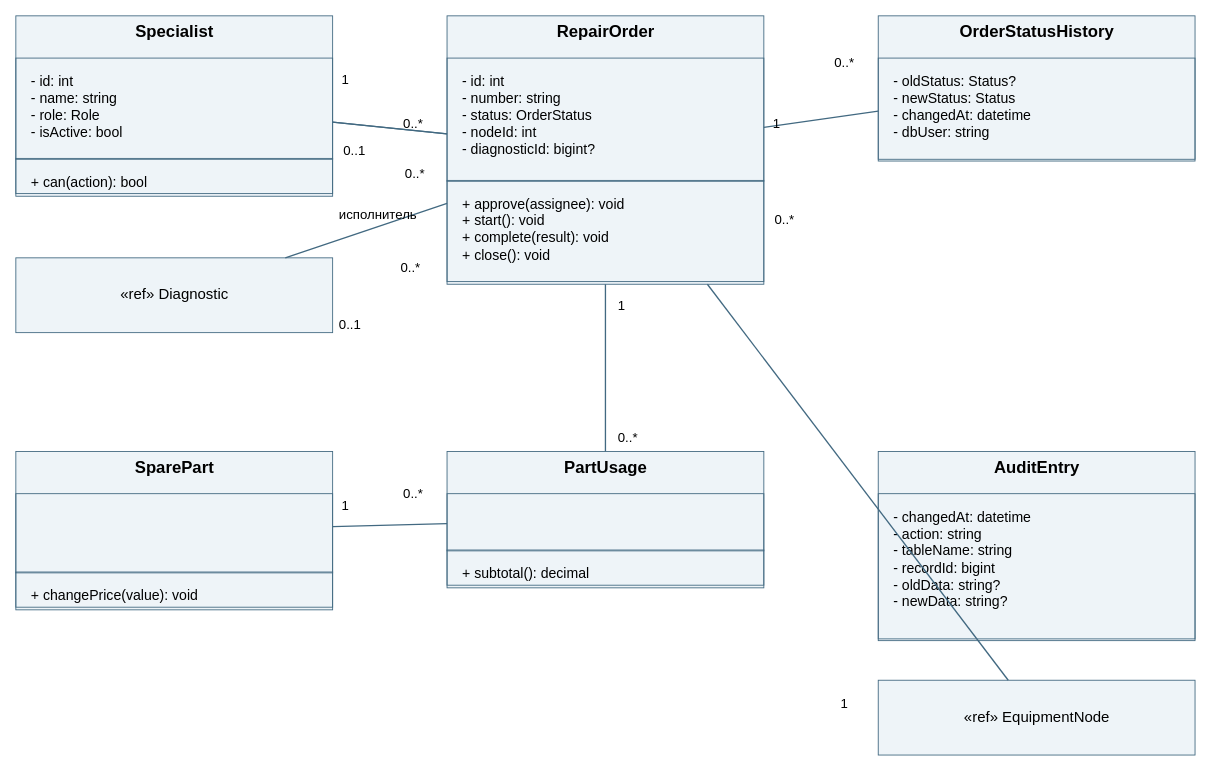
This 1210x770 diagram has some shape labels left out. The shapes that lost their labels are listed below. From the top down, each one's box as (x1, y1, x2, y2) in pixels, then its label:
(15, 493, 333, 573): - id: int - code: string - unitPrice: decimal
(446, 493, 764, 551): - quantity: decimal - unitPrice: decimal
